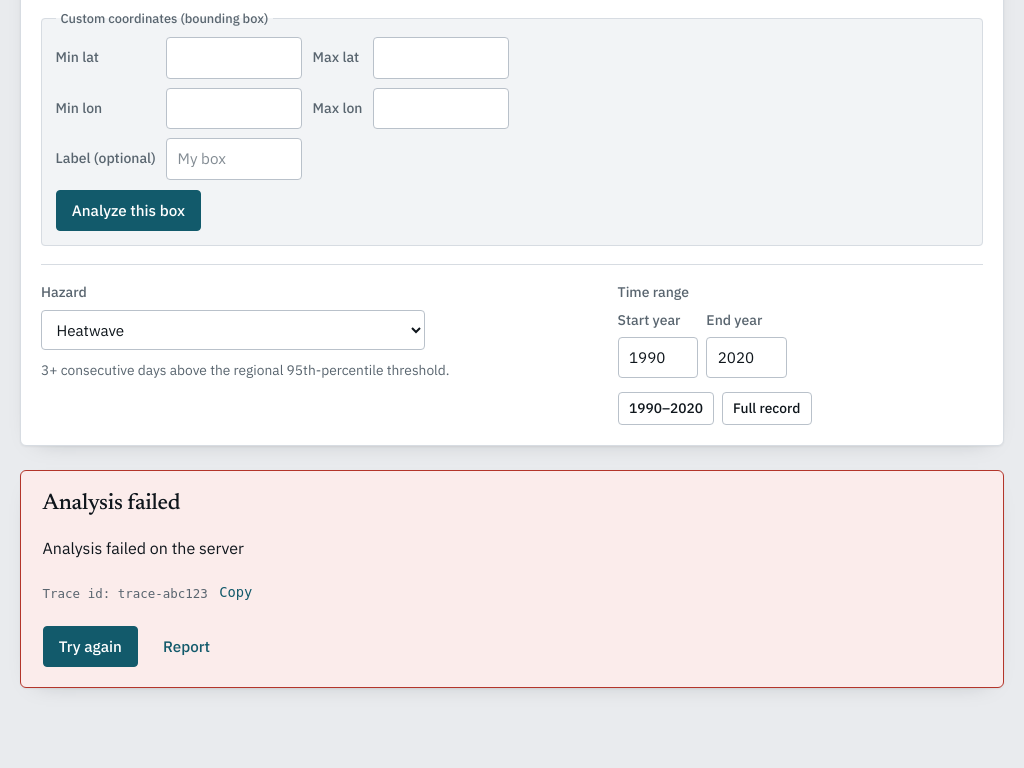
it: frontend core (TC-F-01..11) › TC-F-04: 500 renders error card with trace id, Retry recovers
(page scrolled)
expect the message with test id "error-card" shows "Analysis failed on the server": met, box [43,538,244,558]
expect the text with test id "trace-id" reads "trace-abc123": met, box [118,586,208,600]
Click the button "Try again" at (90, 646), box [43,626,138,667]
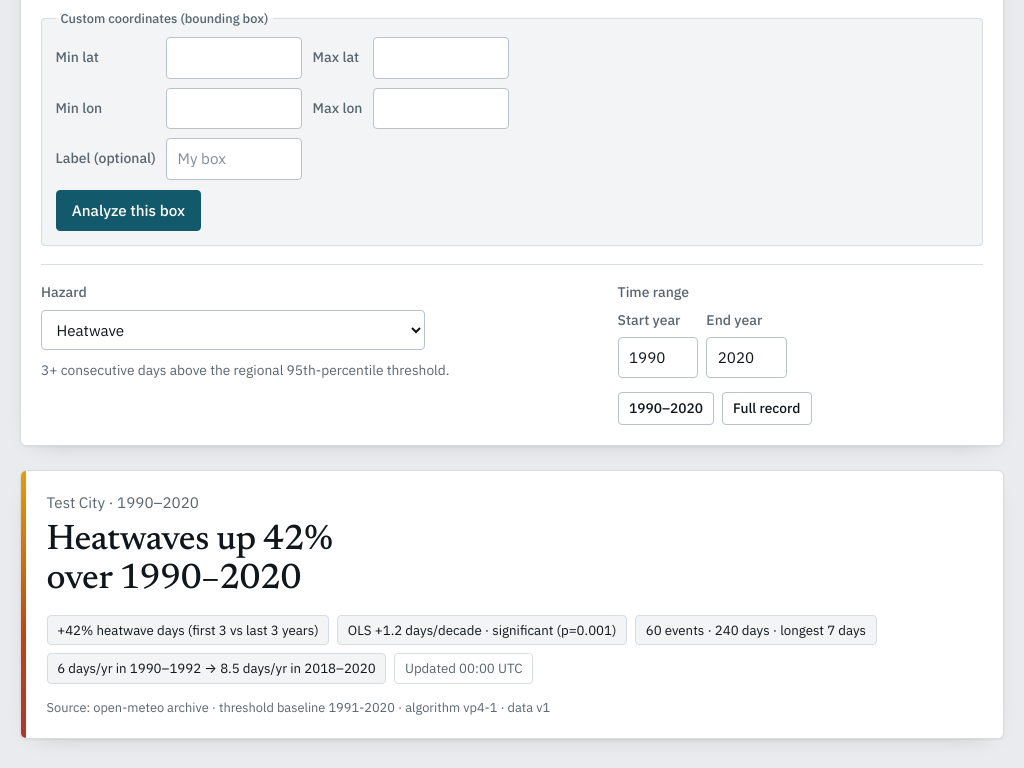
expect the element with test id "summary-card" is shown: met, box [20,470,1004,739]
